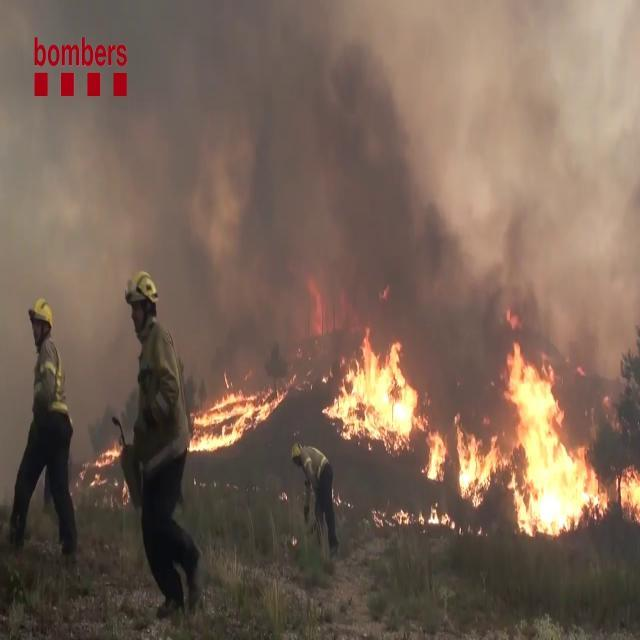Fire: (427, 328, 639, 543), (324, 328, 422, 444), (189, 372, 288, 457)
Smoke: (3, 1, 640, 356)
